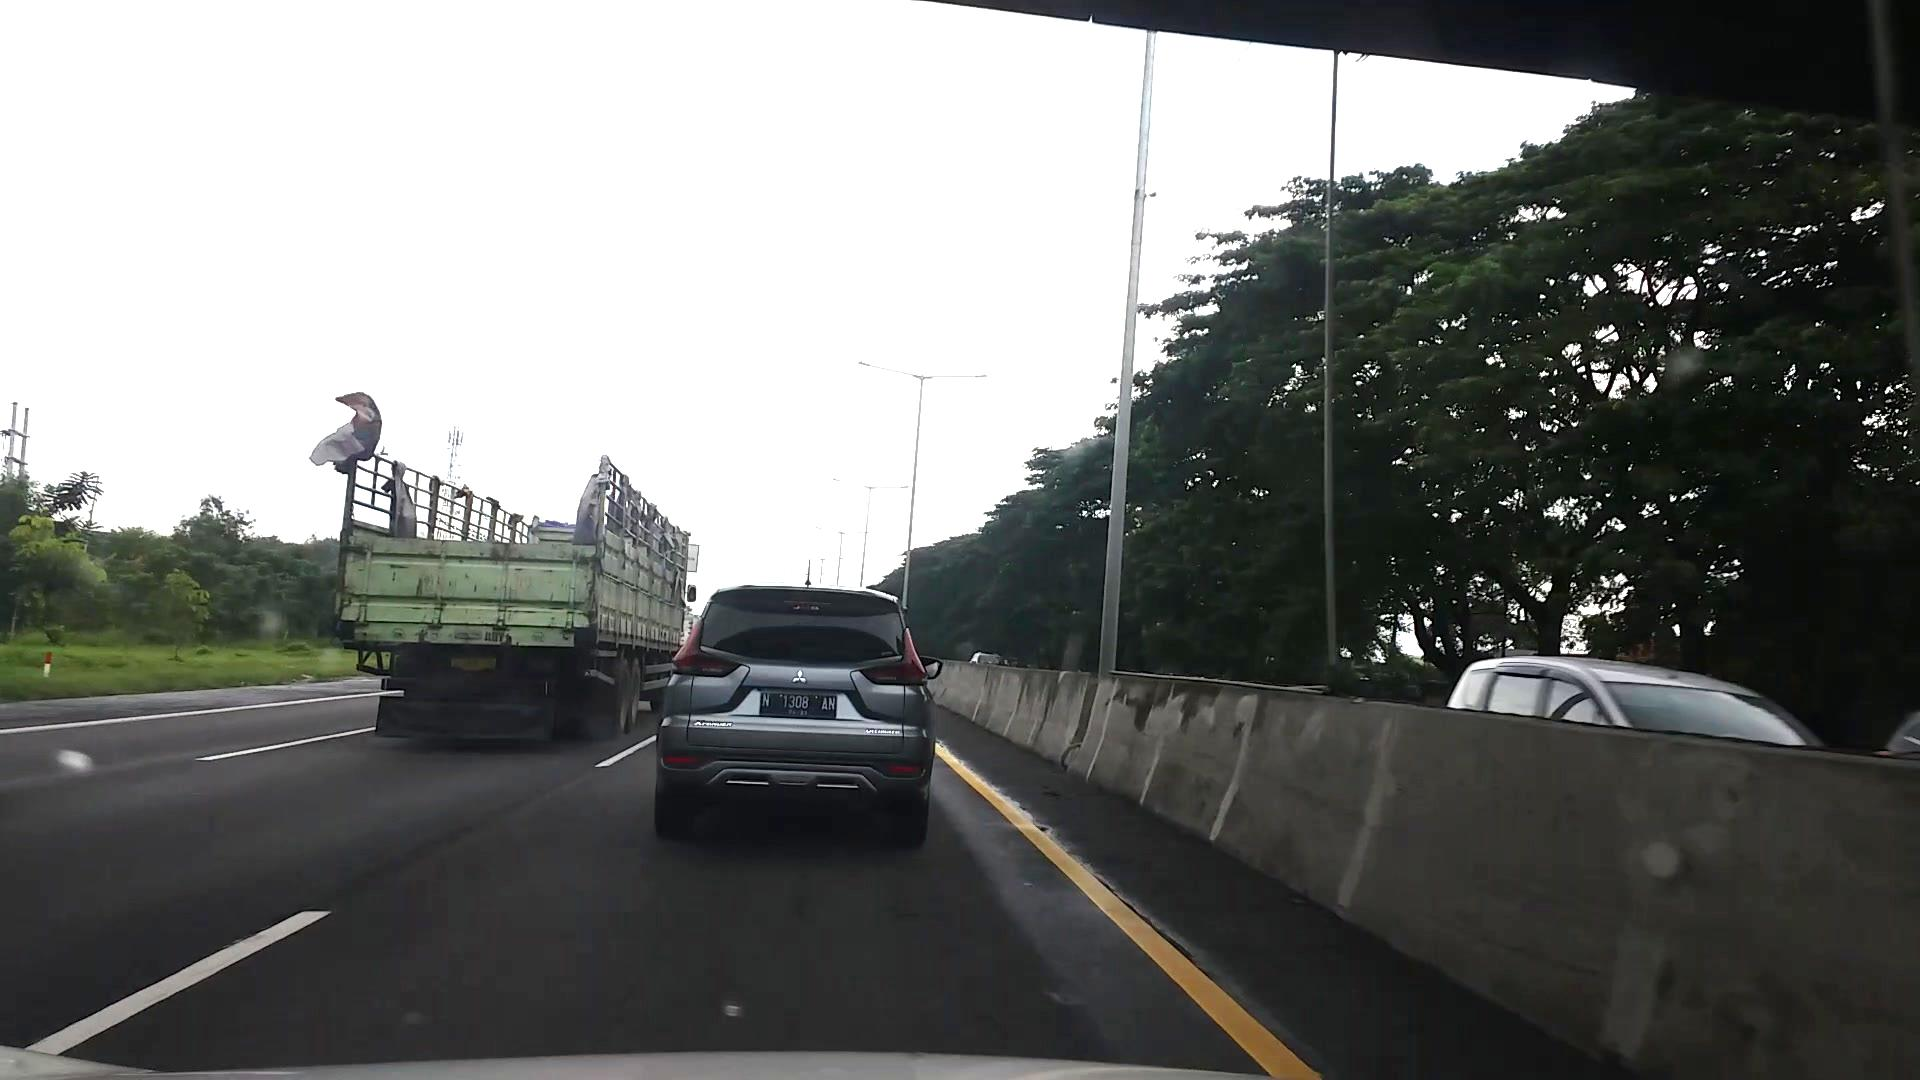plate_positive: (758, 691, 837, 719)
